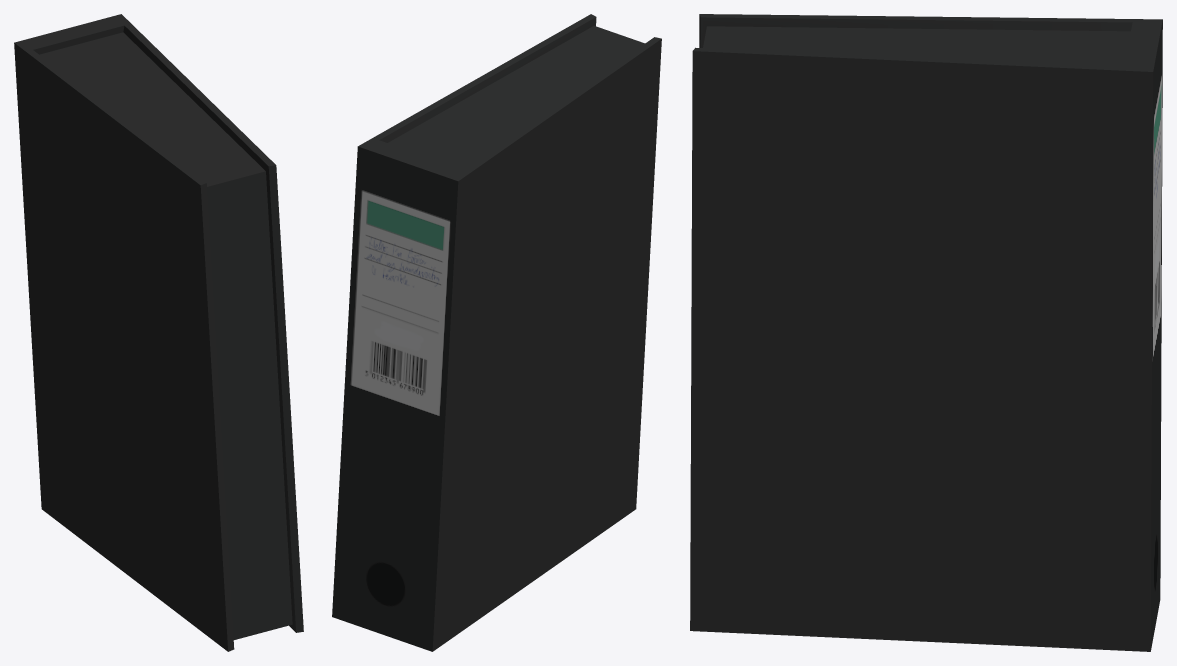
3 views of the same model, side by side, from view 1: azimuth 30°, elevation 25°; view 2: azimuth 150°, elevation 25°; view 3: azimuth 270°, elevation 25° (orthographic). The views are drawn at different scales.
Visible parts, largest first — view 1: File_1; view 2: File_1; view 3: File_1.
Boxes of the visible parts, bbox=[...] form: File_1: bbox=[14, 14, 303, 651]; File_1: bbox=[332, 14, 661, 651]; File_1: bbox=[690, 14, 1162, 651].
Bounding box in the file's own units: 15.15 × 50.52 × 37.83.
